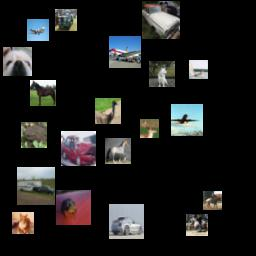airplane: (171, 104, 203, 136), (109, 36, 141, 68), (27, 19, 49, 41)
automobile: (142, 1, 180, 39), (109, 204, 144, 239), (61, 131, 96, 166)
bird: (95, 98, 121, 124)
cat: (12, 212, 34, 234)
deer: (140, 119, 159, 138)
dog: (3, 47, 32, 76), (149, 61, 175, 87)
frog: (56, 190, 91, 225), (21, 122, 47, 148)
ship: (189, 60, 208, 79)
truck: (17, 167, 55, 205), (55, 9, 77, 31)
